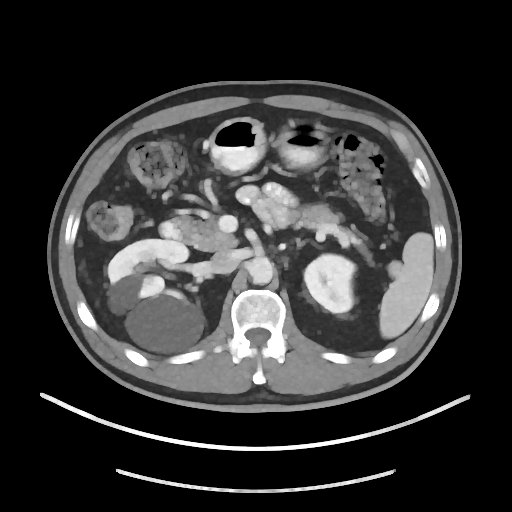Lesion: (121, 289, 208, 359)
